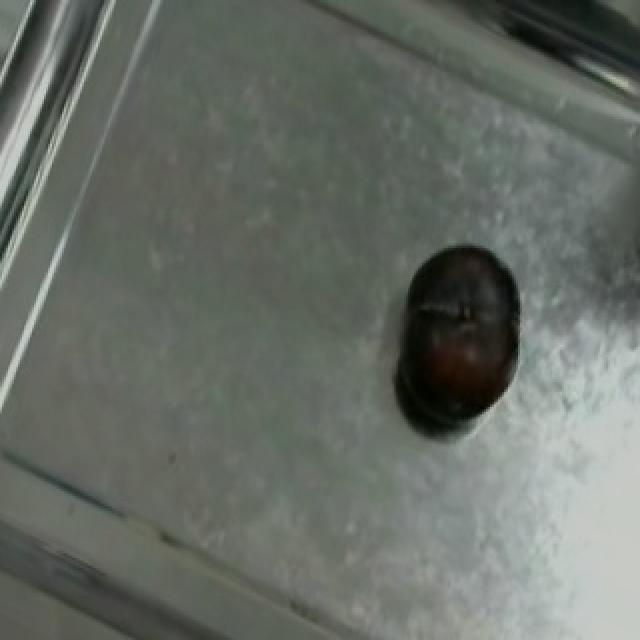Fruit: (384, 220, 540, 442)
